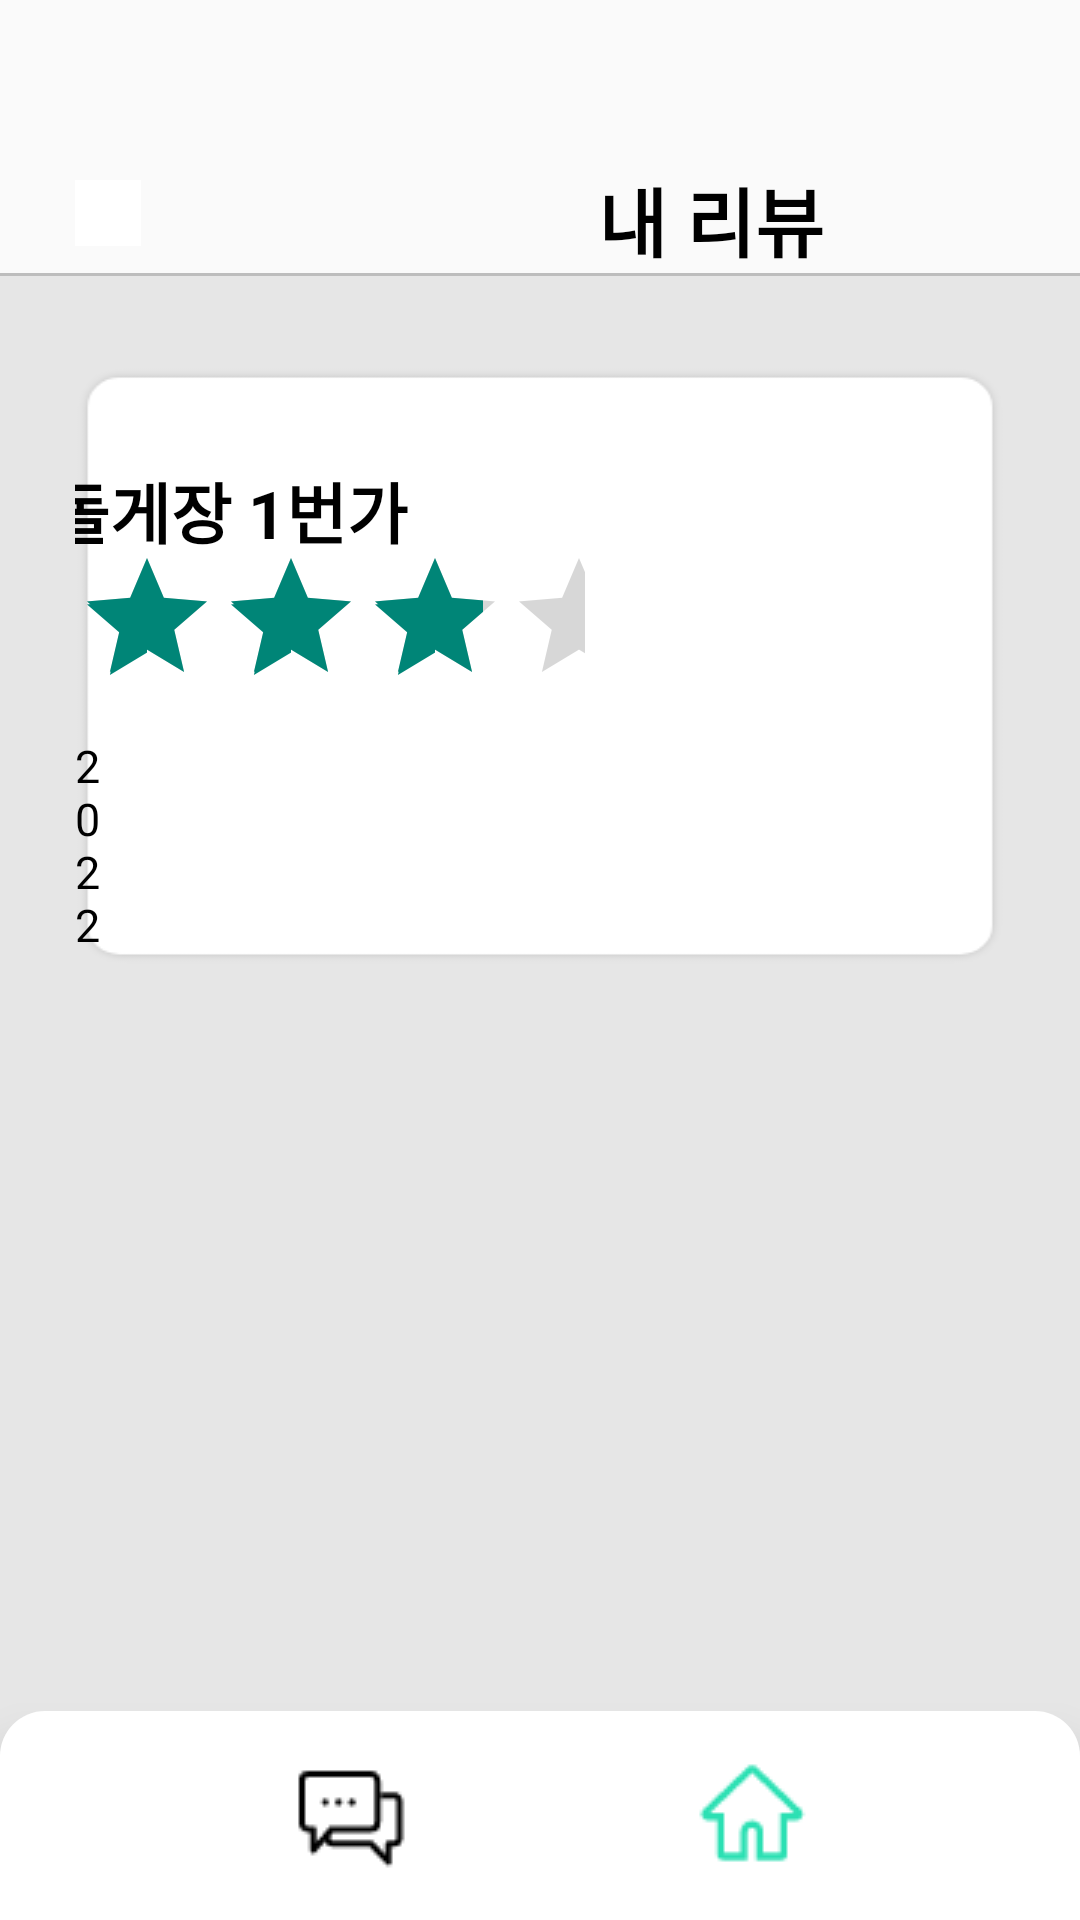

Named icons in this screenshot (1080 x 1920) and their bounding boxes, (x1, y1, x2, y2):
chatting off: (298, 1770, 405, 1867)
home on: (699, 1764, 805, 1862)
